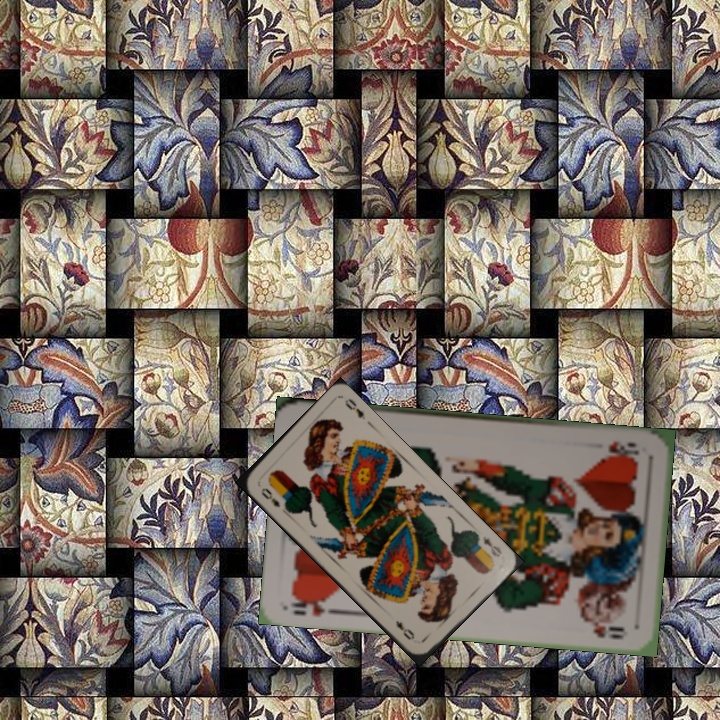EO: (478, 532, 505, 560), (257, 484, 283, 510)
HO: (286, 591, 343, 619), (604, 437, 641, 460)
